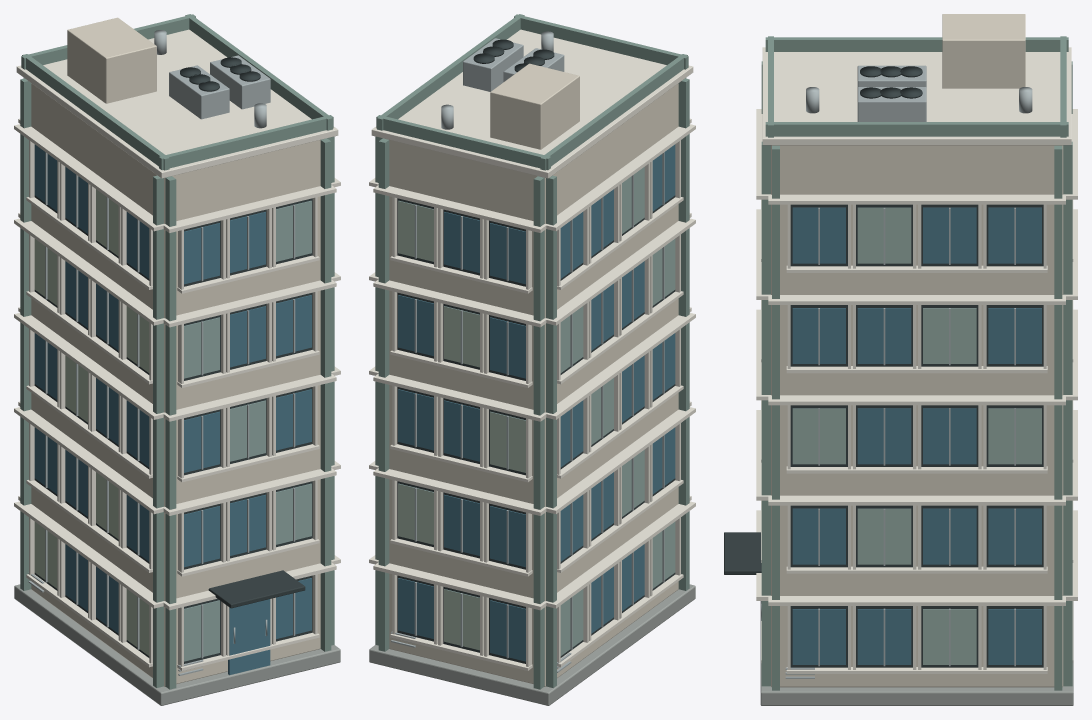
File: site-canyon-tower.glb
3 views of the same model, side by side, from view 1: azimuth 30°, elevation 25°; view 2: azimuth 150°, elevation 25°; view 3: azimuth 270°, elevation 25° (orthographic). The views are drawn at different scales.
Visible parts, largest first — view 1: site-canyon-tower_Warm_white_precast, site-canyon-tower_Limestone_render, site-canyon-tower_Blue_reflective_glazing, site-canyon-tower_Sage_ceramic_cladding, site-canyon-tower_City_glow_office_windows, site-canyon-tower_Galvanized_brushed_steel, site-canyon-tower_Anthracite_anodized_metal, site-canyon-tower_Honed_grey_sandstone; view 2: site-canyon-tower_Warm_white_precast, site-canyon-tower_Limestone_render, site-canyon-tower_Blue_reflective_glazing, site-canyon-tower_Sage_ceramic_cladding, site-canyon-tower_City_glow_office_windows, site-canyon-tower_Galvanized_brushed_steel, site-canyon-tower_Honed_grey_sandstone, site-canyon-tower_Anthracite_anodized_metal; view 3: site-canyon-tower_Limestone_render, site-canyon-tower_Warm_white_precast, site-canyon-tower_Blue_reflective_glazing, site-canyon-tower_Sage_ceramic_cladding, site-canyon-tower_City_glow_office_windows, site-canyon-tower_Anthracite_anodized_metal, site-canyon-tower_Galvanized_brushed_steel, site-canyon-tower_Honed_grey_sandstone.
Part boxes in pixels (box(x1,y1,x2,y2)): site-canyon-tower_Warm_white_precast: box(14, 29, 340, 670); site-canyon-tower_Limestone_render: box(31, 17, 320, 686); site-canyon-tower_Blue_reflective_glazing: box(34, 144, 311, 675); site-canyon-tower_Sage_ceramic_cladding: box(20, 14, 334, 689); site-canyon-tower_City_glow_office_windows: box(34, 189, 311, 661); site-canyon-tower_Galvanized_brushed_steel: box(28, 30, 295, 675); site-canyon-tower_Anthracite_anodized_metal: box(34, 57, 312, 663); site-canyon-tower_Honed_grey_sandstone: box(14, 584, 340, 705); site-canyon-tower_Warm_white_precast: box(369, 29, 695, 670); site-canyon-tower_Limestone_render: box(389, 63, 678, 686); site-canyon-tower_Blue_reflective_glazing: box(398, 144, 675, 661); site-canyon-tower_Sage_ceramic_cladding: box(375, 14, 689, 689); site-canyon-tower_City_glow_office_windows: box(398, 167, 675, 655); site-canyon-tower_Galvanized_brushed_steel: box(391, 31, 664, 672); site-canyon-tower_Honed_grey_sandstone: box(369, 584, 695, 705); site-canyon-tower_Anthracite_anodized_metal: box(397, 39, 675, 663); site-canyon-tower_Limestone_render: box(771, 14, 1063, 687); site-canyon-tower_Warm_white_precast: box(756, 47, 1077, 673); site-canyon-tower_Blue_reflective_glazing: box(792, 207, 1041, 664); site-canyon-tower_Sage_ceramic_cladding: box(761, 36, 1072, 690); site-canyon-tower_City_glow_office_windows: box(792, 207, 1041, 664); site-canyon-tower_Anthracite_anodized_metal: box(724, 66, 1043, 667); site-canyon-tower_Galvanized_brushed_steel: box(761, 65, 1032, 678); site-canyon-tower_Honed_grey_sandstone: box(760, 601, 1073, 705).
Size of the model in its own units: 5.5 by 16.25 by 8.48.
